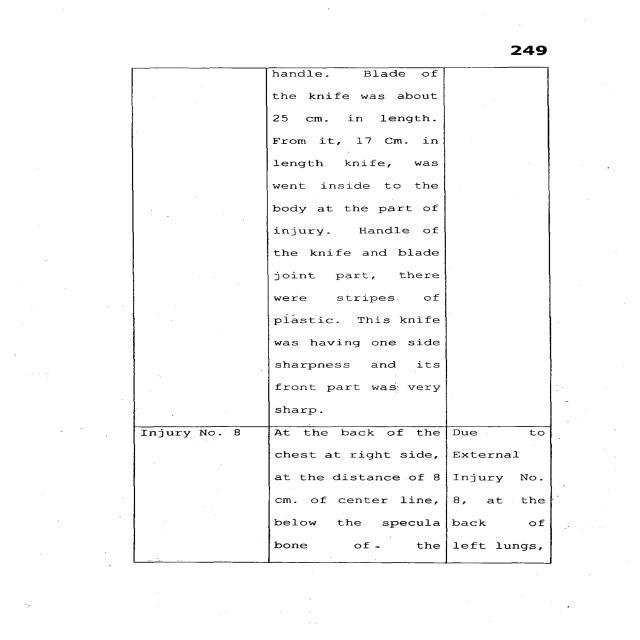page-number: (431, 0, 633, 60)
